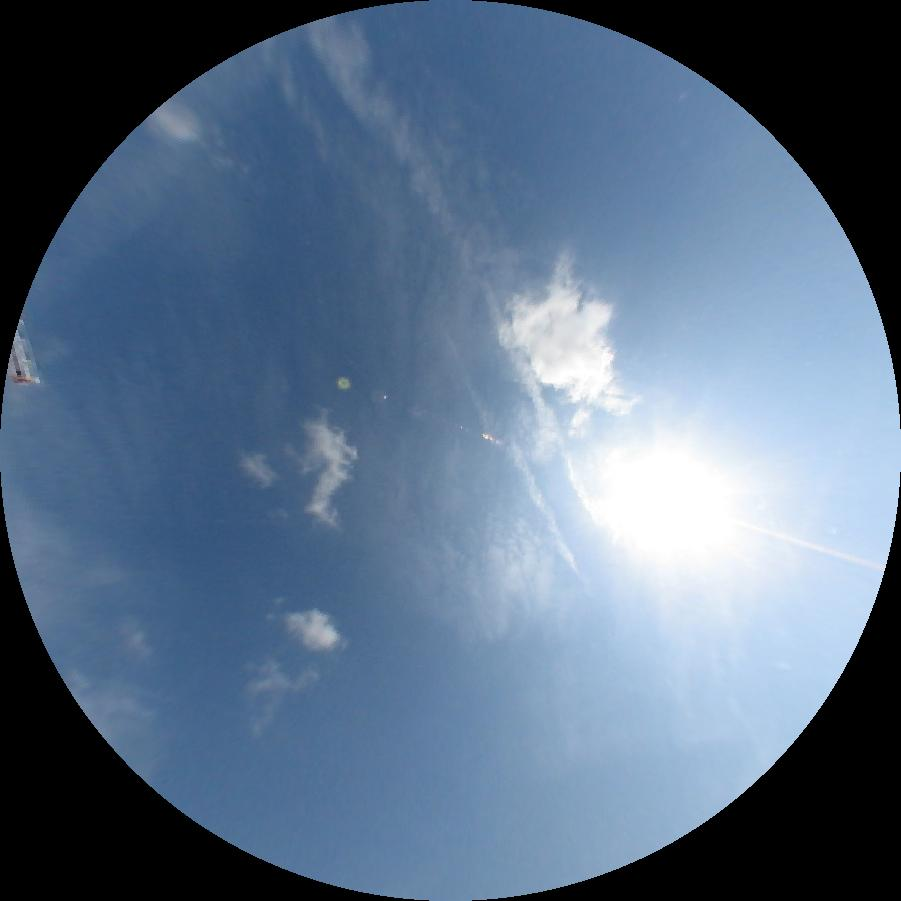contrail veryold: (303, 15, 602, 522), (446, 328, 576, 569)
parasite: (744, 525, 883, 572)
sun: (608, 444, 742, 562)
